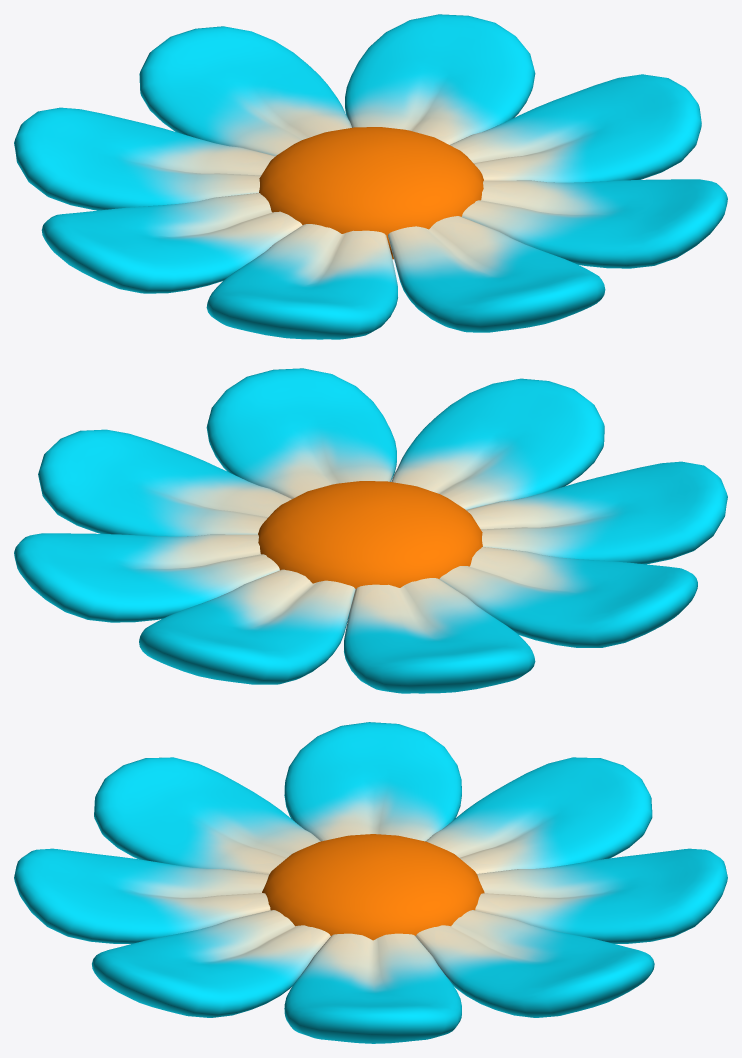
The model's file is hoa1.fbx.
3 views of the same model, one above another, from view 1: azimuth 30°, elevation 25°; view 2: azimuth 150°, elevation 25°; view 3: azimuth 270°, elevation 25° (orthographic). The views are drawn at different scales.
Parts seen in each view (by area): view 1: polySurface8, pasted__polySurface10, pasted__polySurface8, polySurface4, pasted__pasted__polySurface8, pasted__polySurface9, polySurface68, polySurface70, pasted__pasted__polySurface10; view 2: polySurface70, pasted__polySurface10, pasted__polySurface9, pasted__pasted__polySurface10, polySurface4, pasted__polySurface8, polySurface68, polySurface8, pasted__pasted__polySurface8; view 3: pasted__pasted__polySurface10, pasted__pasted__polySurface8, polySurface70, polySurface4, polySurface68, polySurface8, pasted__polySurface9, pasted__polySurface8, pasted__polySurface10.
Part boxes in pixels (x1,y1,x2,y2): polySurface8: (139, 26, 351, 156); pasted__polySurface10: (450, 74, 701, 182); pasted__polySurface8: (345, 14, 535, 144); polySurface4: (259, 127, 483, 259); pasted__pasted__polySurface8: (14, 107, 275, 210); pasted__polySurface9: (462, 179, 727, 268); polySurface68: (41, 193, 302, 293); polySurface70: (388, 216, 605, 332); pasted__pasted__polySurface10: (206, 224, 397, 339); polySurface70: (391, 378, 604, 510); pasted__polySurface10: (38, 429, 291, 536); pasted__polySurface9: (206, 368, 396, 498); pasted__pasted__polySurface10: (466, 461, 727, 564); polySurface4: (258, 481, 482, 588); pasted__polySurface8: (14, 533, 279, 622); polySurface68: (439, 547, 697, 647); polySurface8: (139, 569, 355, 684); pasted__pasted__polySurface8: (344, 578, 535, 693); pasted__pasted__polySurface10: (94, 757, 320, 874); pasted__pasted__polySurface8: (425, 757, 652, 873); polySurface70: (14, 848, 270, 943); polySurface4: (262, 834, 484, 940); polySurface68: (284, 722, 461, 841); polySurface8: (475, 848, 727, 943); pasted__polySurface9: (92, 910, 330, 1017); pasted__polySurface8: (415, 910, 654, 1017); pasted__polySurface10: (284, 933, 461, 1043).
Size of the model in its own units: 82.74 by 11.5 by 83.59.
